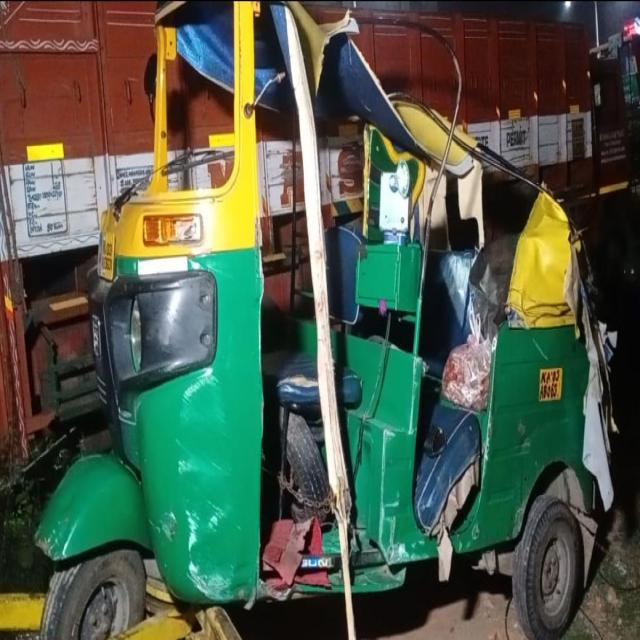accident: (36, 2, 600, 638)
